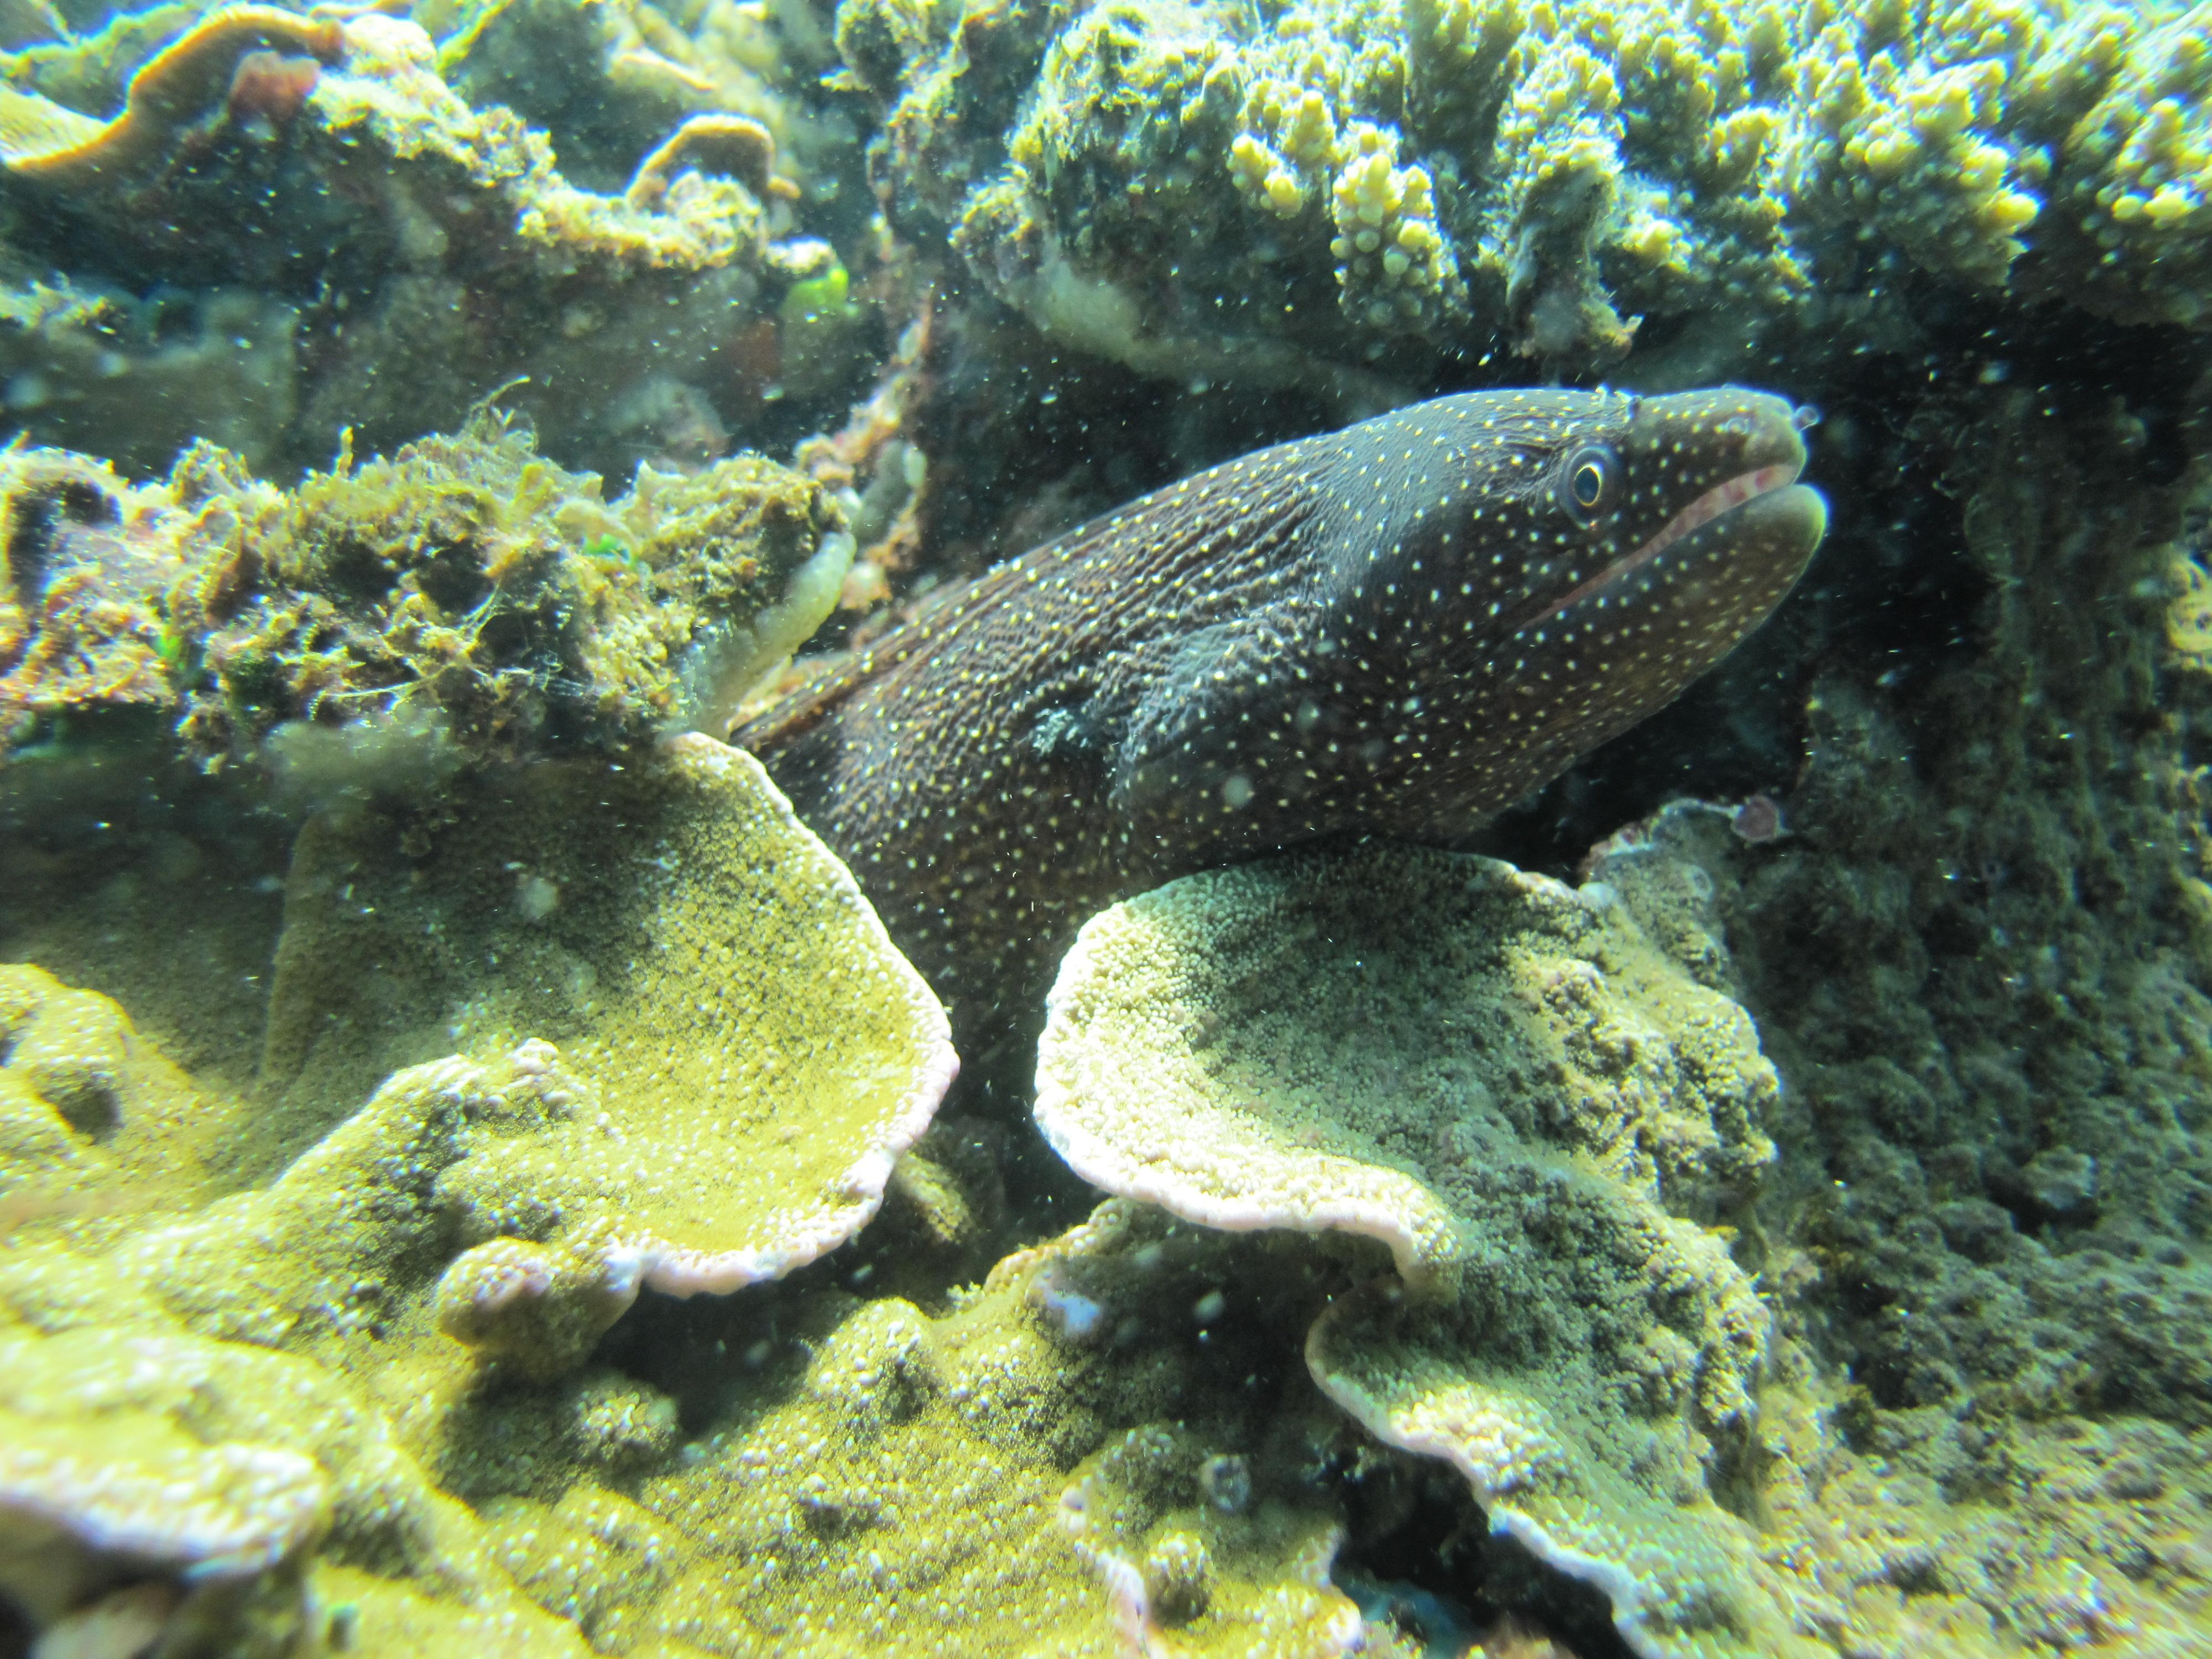Fish: (681, 324, 1843, 1023)
